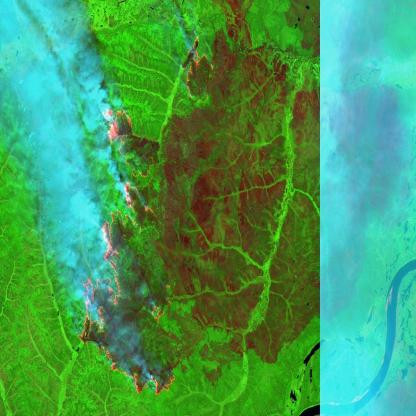fire: (77, 105, 177, 397), (184, 31, 212, 96)
